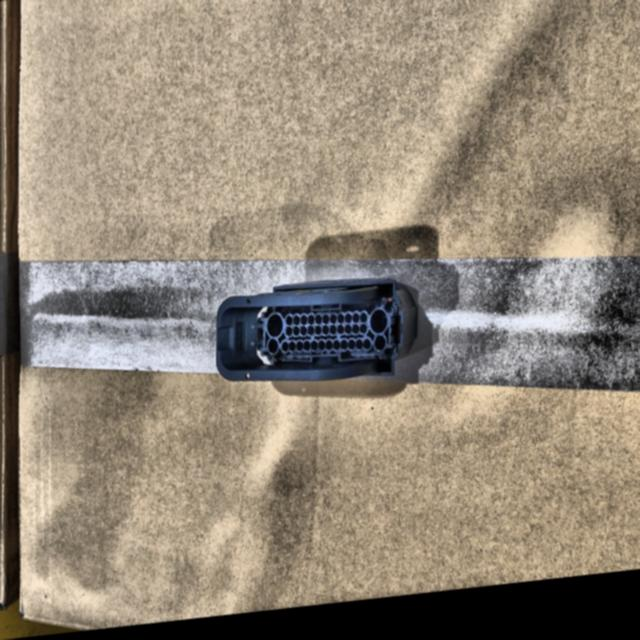P38: (215, 286, 418, 388)
